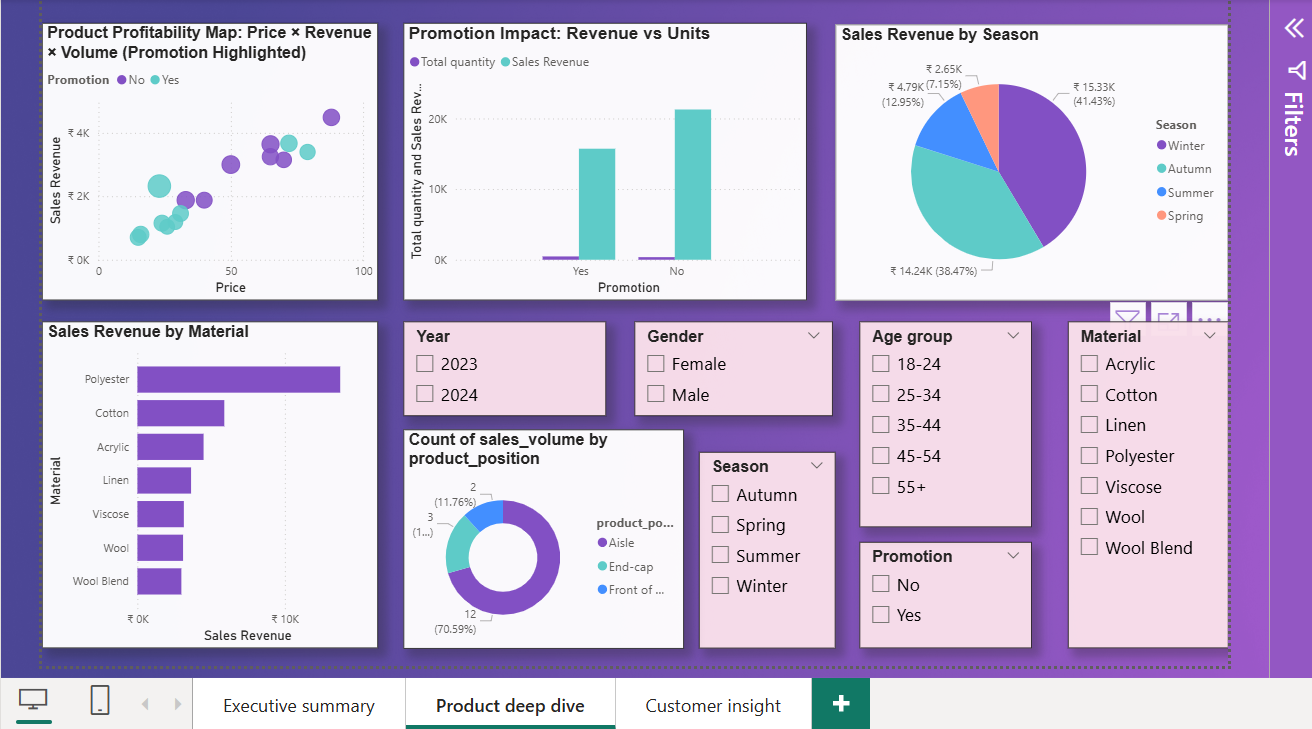

This screenshot's page, from the dashboard's own definition file:
{"tool":"powerbi","page":{"name":"Product deep dive","canvas":[1280,720],"ordinal":1},"visuals":[{"type":"scatterChart","title":"Product Profitability Map: Price × Revenue × Volume (Promotion Highlighted)","fields":{"X":["products.price"],"Y":["Sum(sales.Sales Revenue)"],"Series":["products.promotion"],"Size":["Sum(sales.quantity)"]},"box":[0,25.9,362.7,299.6],"z":0},{"type":"clusteredColumnChart","title":"Promotion Impact: Revenue vs Units","fields":{"Category":["products.promotion"],"Y":["Sum(sales.quantity)","Sum(sales.Sales Revenue)"]},"box":[390.2,25.9,435.6,299.6],"z":1000},{"type":"pieChart","fields":{"Category":["products.season"],"Y":["Sum(sales.Sales Revenue)"]},"box":[856.6,27.5,424.2,297.9],"z":2000},{"type":"barChart","fields":{"Category":["products.material"],"Y":["Sum(sales.Sales Revenue)"]},"box":[0,348.1,362.7,353],"z":3000},{"type":"slicer","fields":{"Values":["sales.Year"]},"box":[390.2,348.1,218.6,102],"z":4000},{"type":"slicer","fields":{"Values":["customers.gender"]},"box":[639.6,348.1,213.7,102],"z":5000},{"type":"slicer","fields":{"Values":["products.promotion"]},"box":[882.5,586.2,186.2,115],"z":6000},{"type":"slicer","fields":{"Values":["products.season"]},"box":[709.2,489,147.3,212.1],"z":7000},{"type":"slicer","fields":{"Values":["customers.age_group"]},"box":[882.5,348.1,186.2,221.8],"z":8000},{"type":"slicer","fields":{"Values":["products.material"]},"box":[1107.6,348.1,173.3,353],"z":9000},{"type":"donutChart","fields":{"Category":["products.product_position"],"Y":["CountNonNull(products.sales_volume)"]},"box":[390.2,464.7,302.8,236.4],"z":11000}]}

Visuals, with their boxes on the page's 1280x720 design canvas (x1, y1, x2, y2). These are canvas units, not pixel positions in the 1312x729 screenshot, which may show the page scaled, cropped or inside an application window:
"Product Profitability Map: Price × Revenue × Volume (Promotion Highlighted)" scatterChart: bbox=(0, 26, 363, 326)
"Promotion Impact: Revenue vs Units" clusteredColumnChart: bbox=(390, 26, 826, 326)
pieChart - products.season x Sum(sales.Sales Revenue): bbox=(857, 28, 1281, 325)
barChart - products.material x Sum(sales.Sales Revenue): bbox=(0, 348, 363, 701)
slicer - sales.Year: bbox=(390, 348, 609, 450)
slicer - customers.gender: bbox=(640, 348, 853, 450)
slicer - products.promotion: bbox=(882, 586, 1069, 701)
slicer - products.season: bbox=(709, 489, 856, 701)
slicer - customers.age_group: bbox=(882, 348, 1069, 570)
slicer - products.material: bbox=(1108, 348, 1281, 701)
donutChart - products.product_position x CountNonNull(products.sales_volume): bbox=(390, 465, 693, 701)
